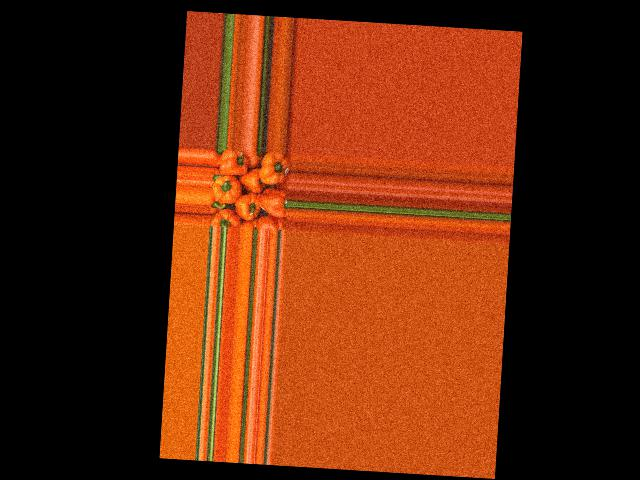bell_pepper: (256, 215, 288, 230)
